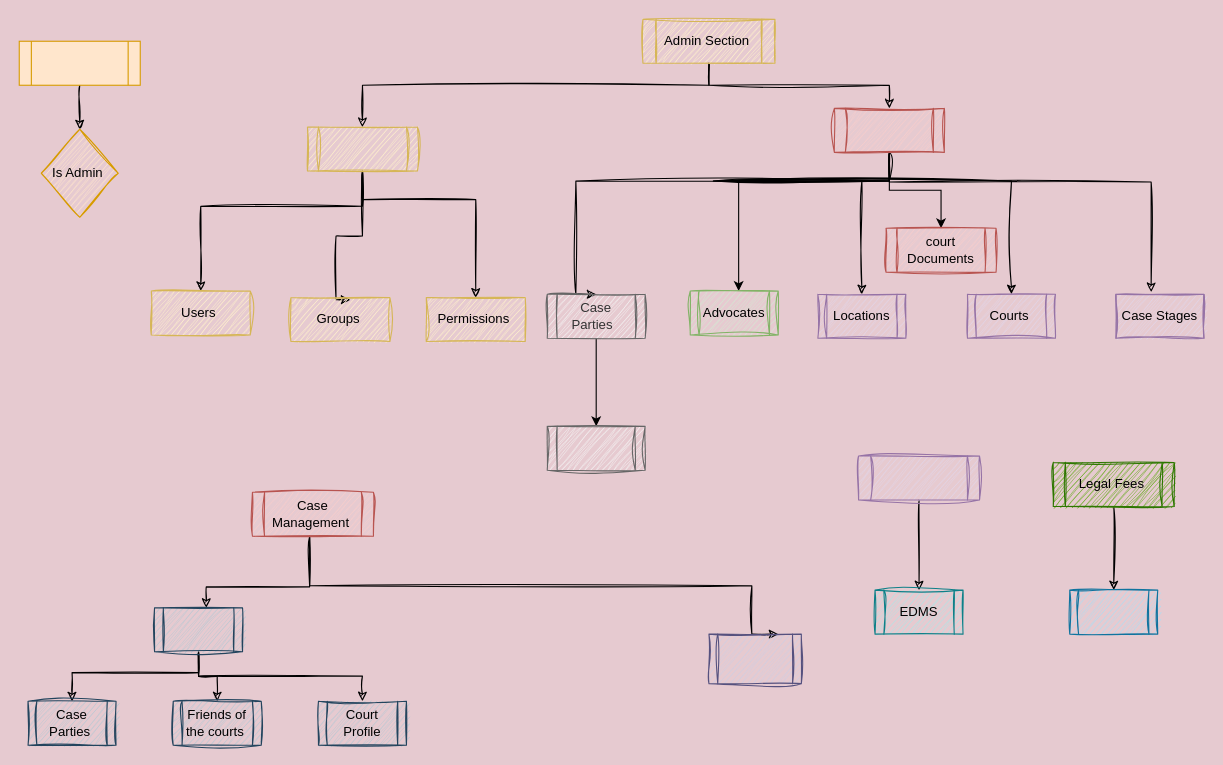
This 1223x765 diagram has some shape labels left out. Here are the shapes that lost their labels. From the top down, the box of each, then its label:
(18, 40, 140, 85): Authentication / Authorization
(306, 126, 417, 171): User Management
(833, 107, 944, 152): Categories
(546, 425, 645, 470): Claimant & Respondent
(857, 455, 980, 500): File Movement Management
(153, 607, 243, 652): New Case
(1069, 589, 1158, 634): Billling & Receipting
(708, 633, 801, 684): Case List
